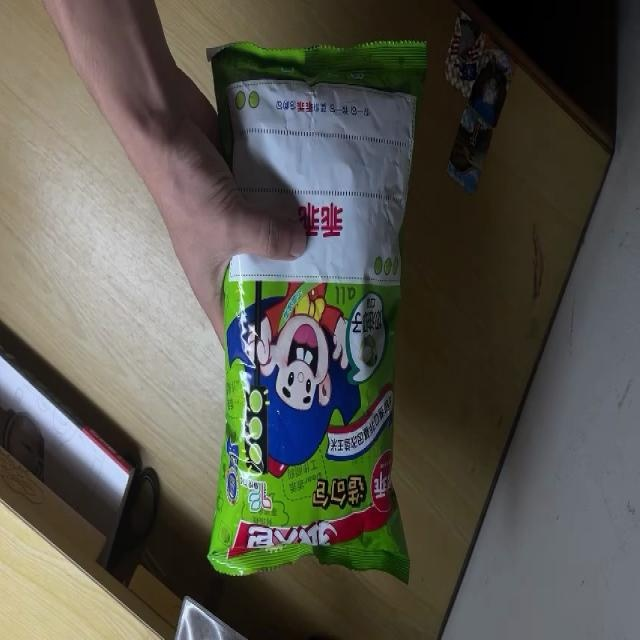Good-Luck: (205, 41, 428, 589)
